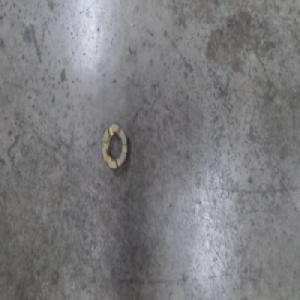Nut: (100, 119, 129, 171)
